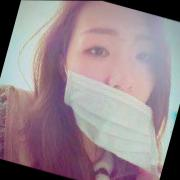WRONG: (50, 4, 178, 138)
